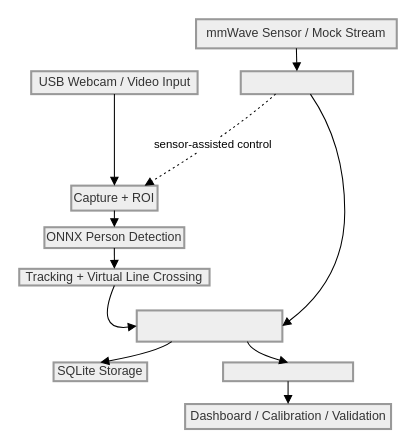
This 415x447 diagram has some shape labels left out. The centre of each missing label's shape, as x and y in pixels:
FastAPI REST + SSE: the point at 288,371
Presence Sensing: the point at 296,82
Rolling Metrics + Events: the point at 209,325
